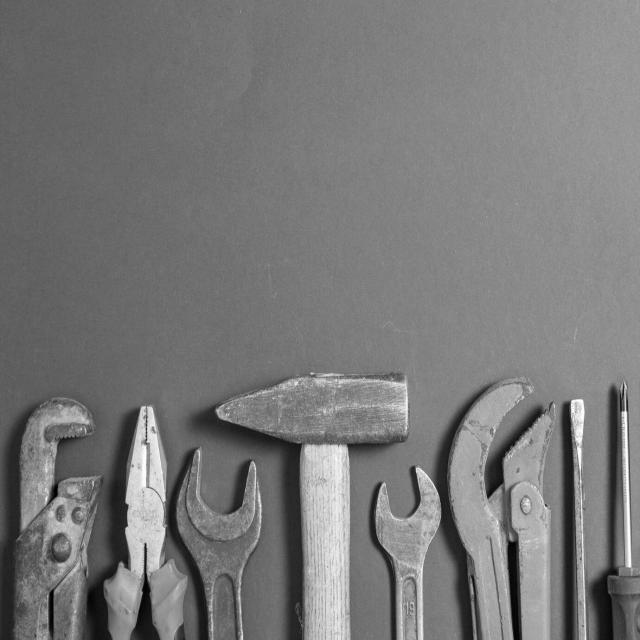hammer: (204, 359, 414, 639)
pliers: (108, 400, 186, 640)
screwdriver: (598, 365, 640, 640), (564, 391, 608, 640)
wrench: (427, 359, 563, 640), (0, 390, 106, 640), (170, 442, 270, 640), (359, 454, 446, 640)
